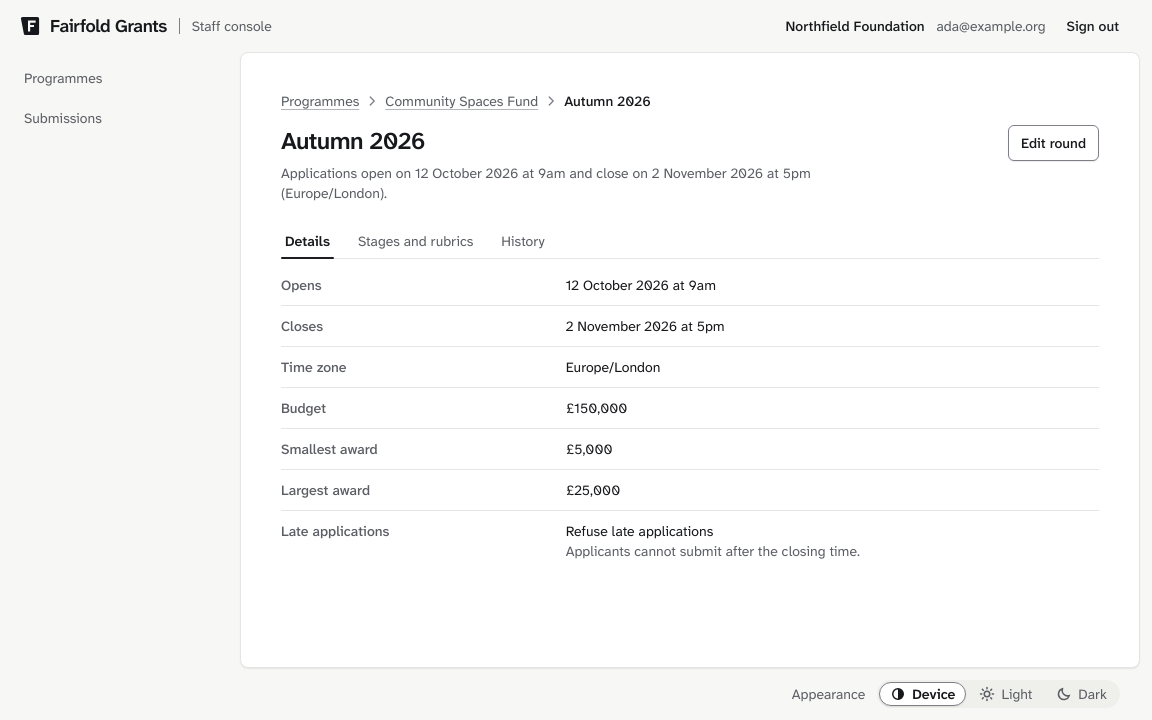
a round page › shows the history of the round with the stages and criteria named
This screenshot has width=1152, height=720.
Click the tab "History" at (523, 241), box [497, 223, 549, 259]
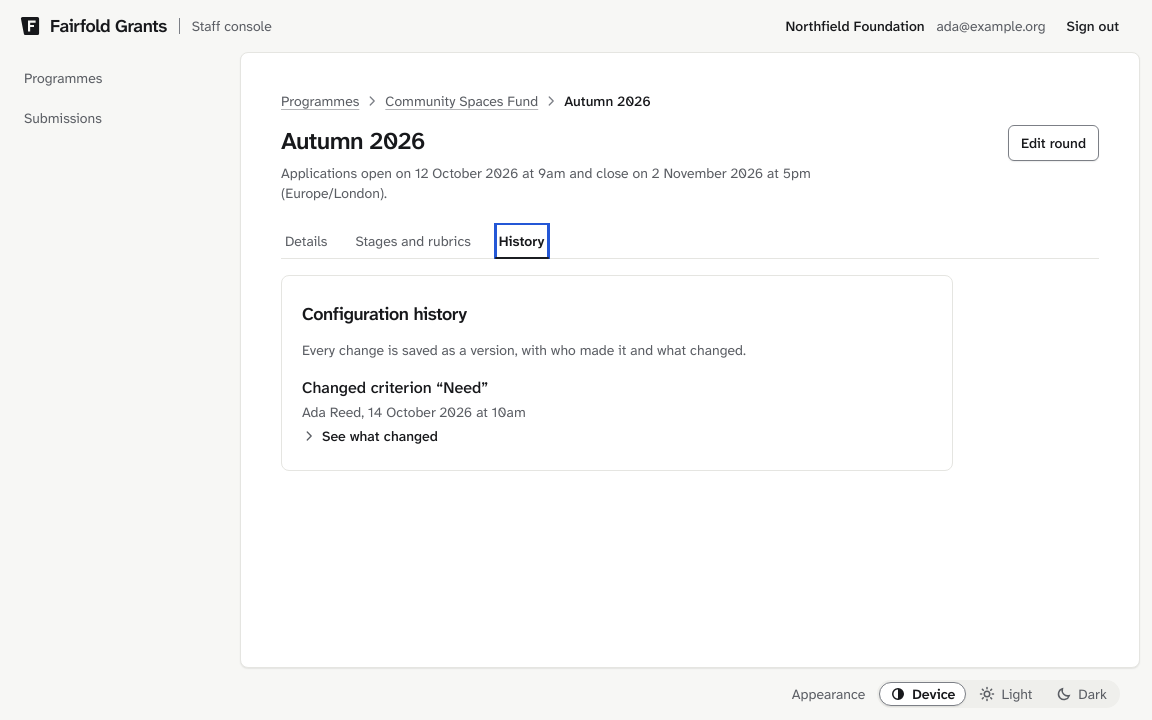
Click the heading "See what changed" at (370, 436), box [302, 424, 438, 448]
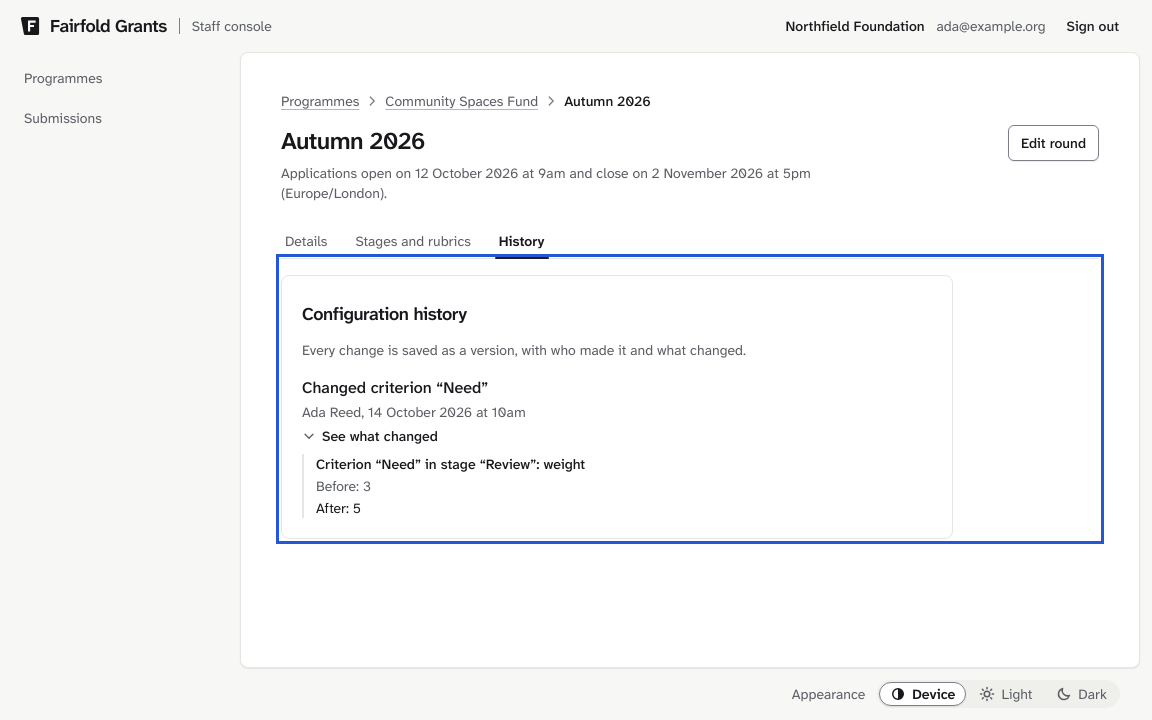
expect the text "Changed criterion “Need”" is shown: met, box [302, 377, 488, 398]
expect the text "Criterion “Need” in stage “Review”: weight" is shown: met, box [316, 455, 585, 473]
expect the text "Before: 3" is shown: met, box [316, 477, 371, 495]
